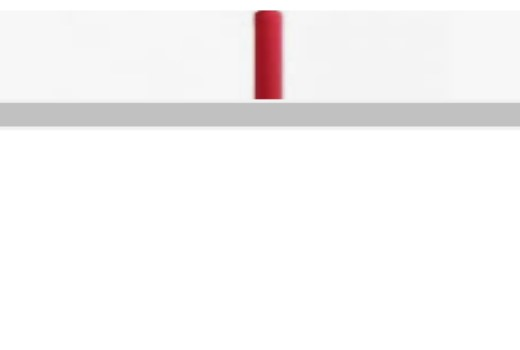baston_v: (245, 75, 293, 118), (246, 0, 293, 31)
